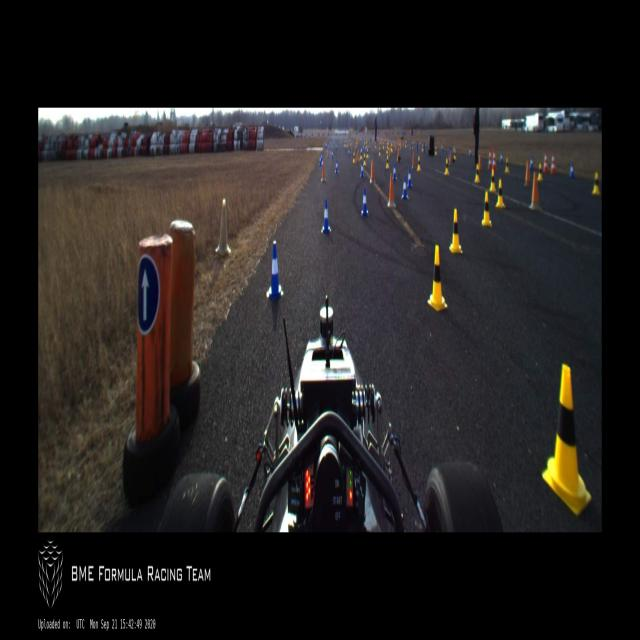blue_cone: (266, 240, 284, 301), (320, 198, 331, 233), (361, 187, 369, 217), (401, 175, 408, 200), (569, 160, 574, 180), (407, 168, 412, 188), (392, 164, 397, 179), (360, 161, 364, 177), (530, 155, 534, 171), (334, 159, 338, 173), (500, 151, 503, 163)
large_orange_cone: (550, 151, 556, 175), (492, 148, 497, 169), (544, 151, 548, 172), (488, 148, 492, 169)
unknown_cone: (216, 199, 230, 255), (530, 173, 542, 212), (388, 169, 396, 208), (524, 161, 531, 187), (370, 159, 375, 183), (321, 160, 326, 182), (412, 151, 416, 169), (478, 154, 482, 171)
yellow_cone: (542, 363, 592, 515), (427, 246, 448, 311), (450, 209, 462, 253), (482, 191, 492, 227), (497, 178, 505, 208), (592, 169, 601, 194), (489, 168, 496, 192), (537, 158, 543, 182), (475, 163, 480, 183), (445, 157, 449, 175), (417, 155, 421, 171), (506, 159, 510, 173), (386, 154, 389, 169), (363, 152, 366, 166), (353, 152, 355, 163), (360, 149, 362, 160)
